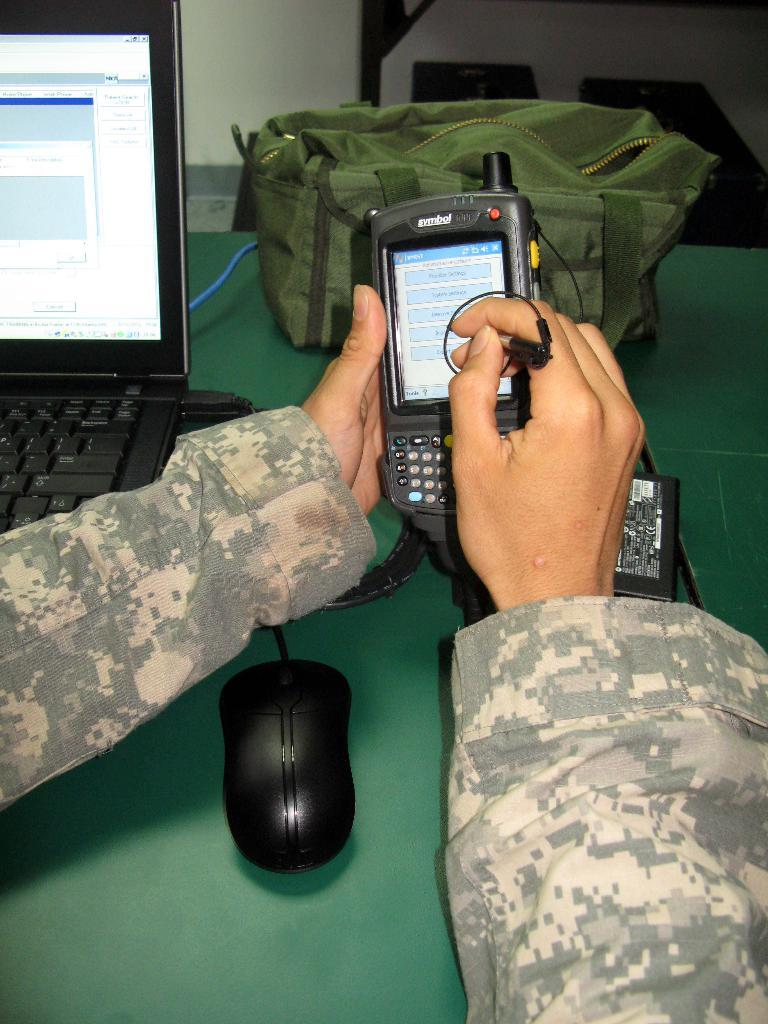Computer-mouse: (221, 657, 357, 874)
